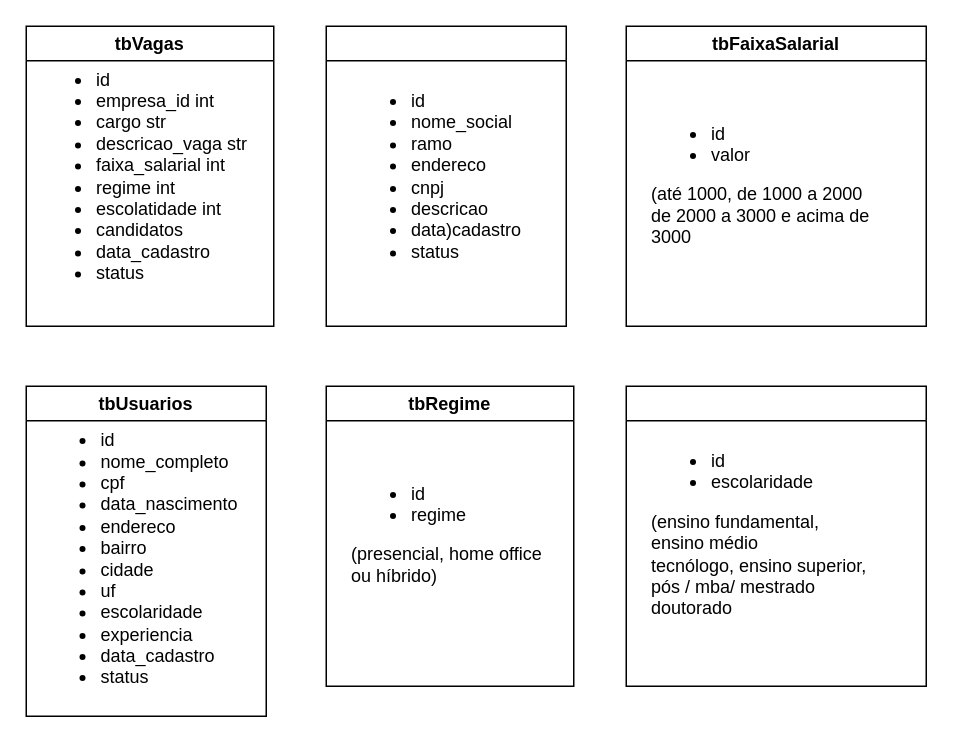
Image size: 953x743. Some labels were removed from this diagram. The shapes that lost their labels are listed below. From the top down, each one's box as (x1, y1, x2, y2) in pixels, then its label:
(325, 25, 566, 326): tbEmpresas
(625, 385, 926, 686): tbEscolaridadeMinima
